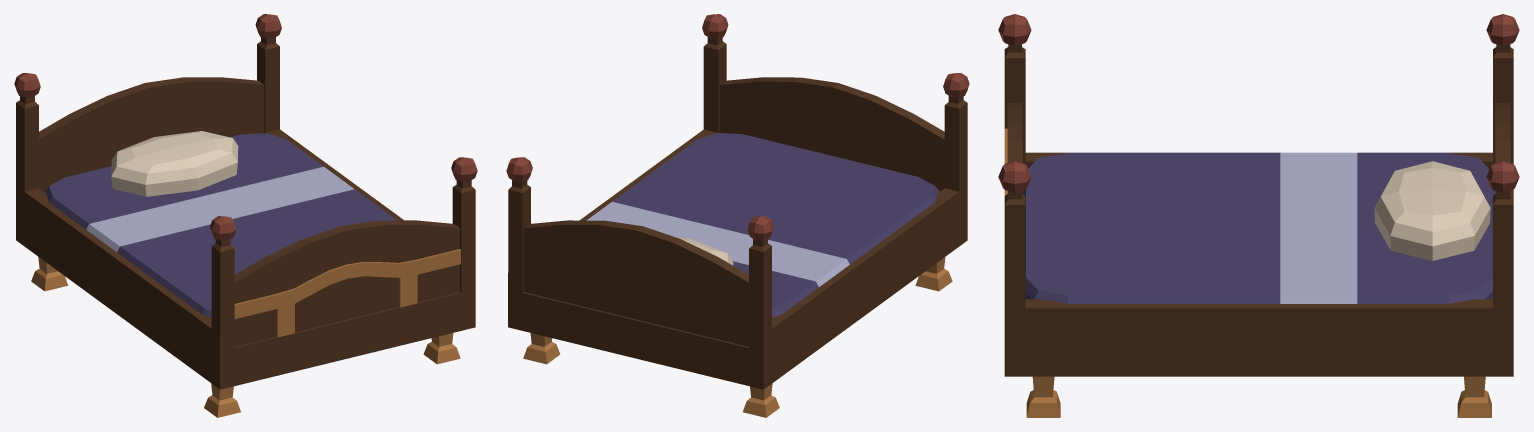
The model's file is Single Bed.fbx.
The picture shows the model from 3 angles, left to right: view 1: azimuth 30°, elevation 25°; view 2: azimuth 150°, elevation 25°; view 3: azimuth 270°, elevation 25°; orthographic projection. The views are drawn at different scales.
Parts seen in each view (by area): view 1: Single Bed, Pillow1; view 2: Single Bed; view 3: Single Bed, Pillow1.
Boxes of the visible parts, bbox=[...] form: Single Bed: bbox=[14, 14, 477, 417]; Pillow1: bbox=[111, 131, 238, 196]; Single Bed: bbox=[506, 14, 969, 417]; Single Bed: bbox=[998, 14, 1519, 417]; Pillow1: bbox=[1374, 161, 1490, 260].
Size of the model in its own units: 1.95 by 1.44 by 2.67.
